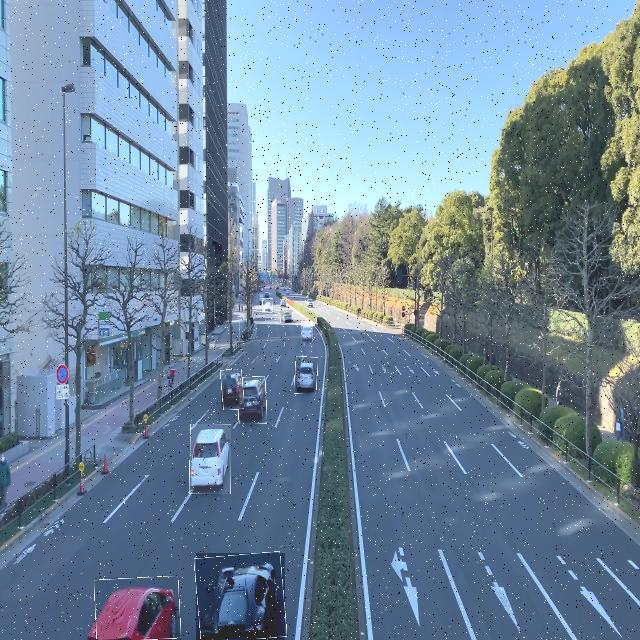Car: (196, 553, 285, 640), (95, 577, 180, 640), (190, 424, 231, 494), (237, 377, 267, 424), (221, 370, 244, 410), (294, 357, 318, 394), (301, 321, 313, 342), (280, 310, 293, 324), (262, 298, 273, 313)
